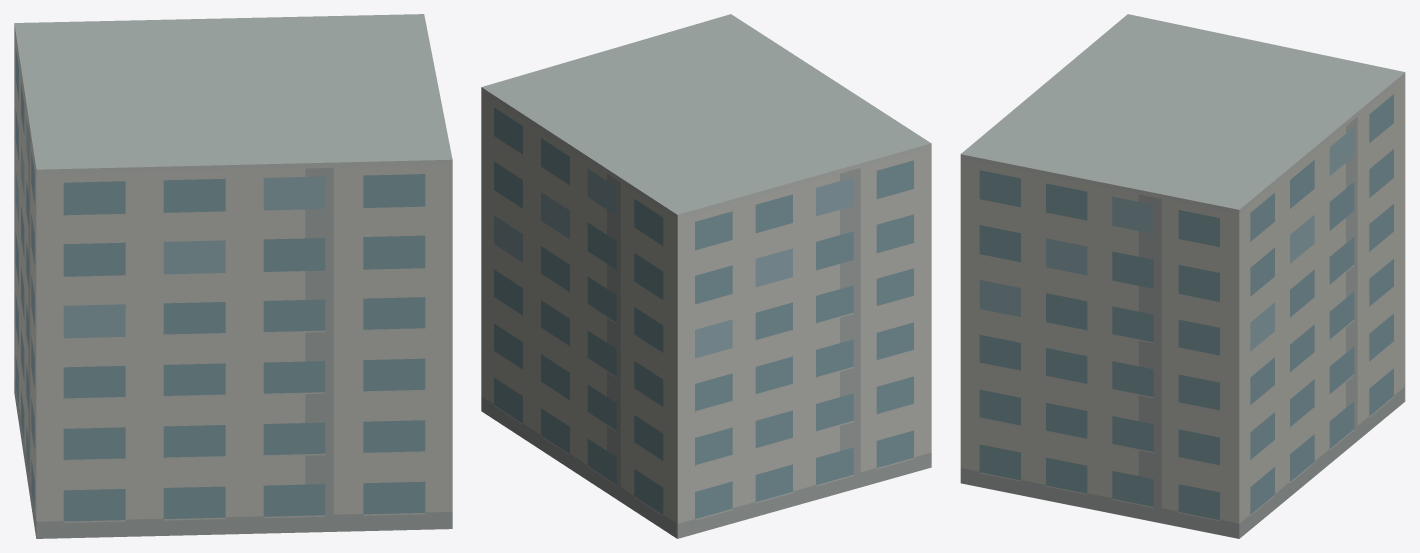
File: survey-upis-32965094.glb
The picture shows the model from 3 angles, left to right: view 1: azimuth 30°, elevation 25°; view 2: azimuth 150°, elevation 25°; view 3: azimuth 270°, elevation 25°; orthographic projection. The views are drawn at different scales.
Visible parts, largest first — view 1: survey-upis-32965094.tmp; view 2: survey-upis-32965094.tmp; view 3: survey-upis-32965094.tmp.
Part boxes in pixels (bbox=[...]): survey-upis-32965094.tmp: bbox=[14, 14, 452, 538]; survey-upis-32965094.tmp: bbox=[481, 14, 931, 538]; survey-upis-32965094.tmp: bbox=[960, 14, 1405, 538].
Size of the model in its own units: 21.96 by 17.2 by 21.09.
